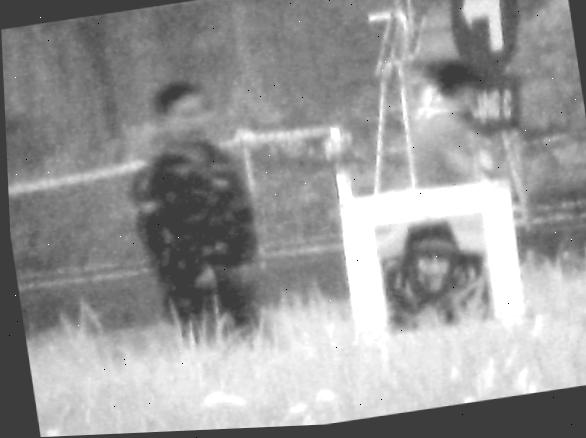bia: (374, 210, 497, 338)
